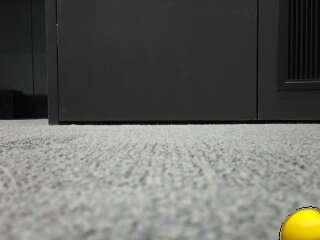lemon: (282, 209, 320, 240)
